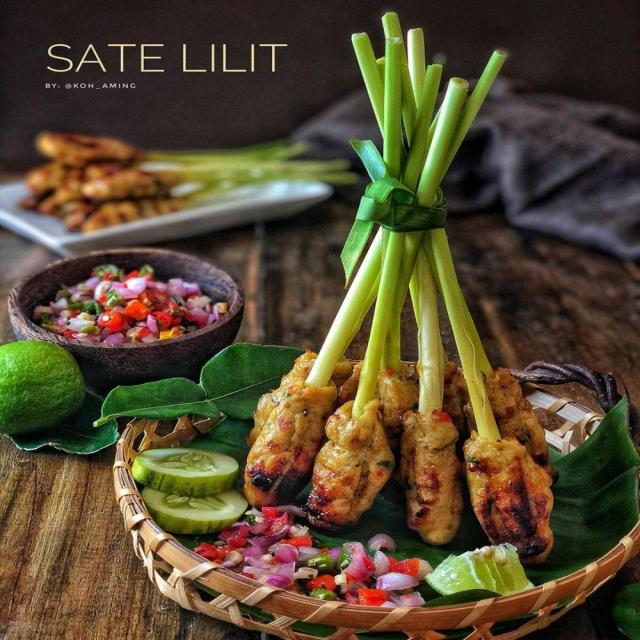Sate: (280, 43, 566, 546)
